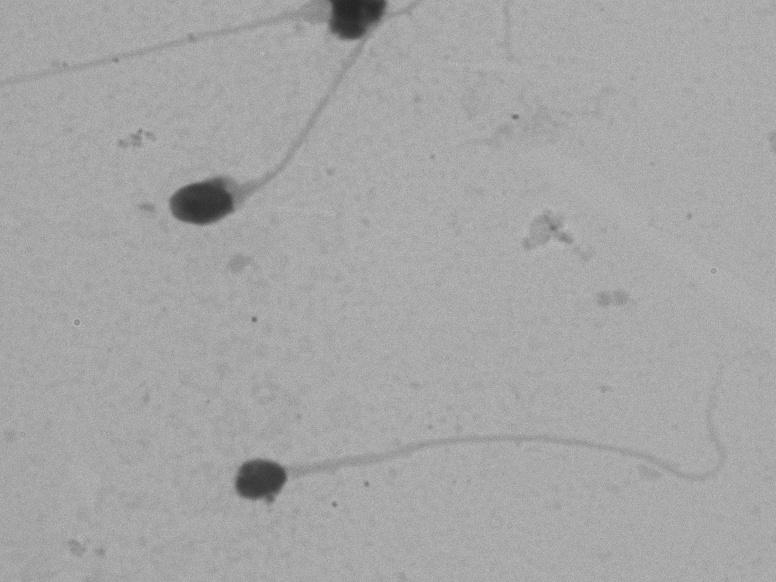Abnormal: (212, 340, 752, 520), (149, 35, 385, 290)
